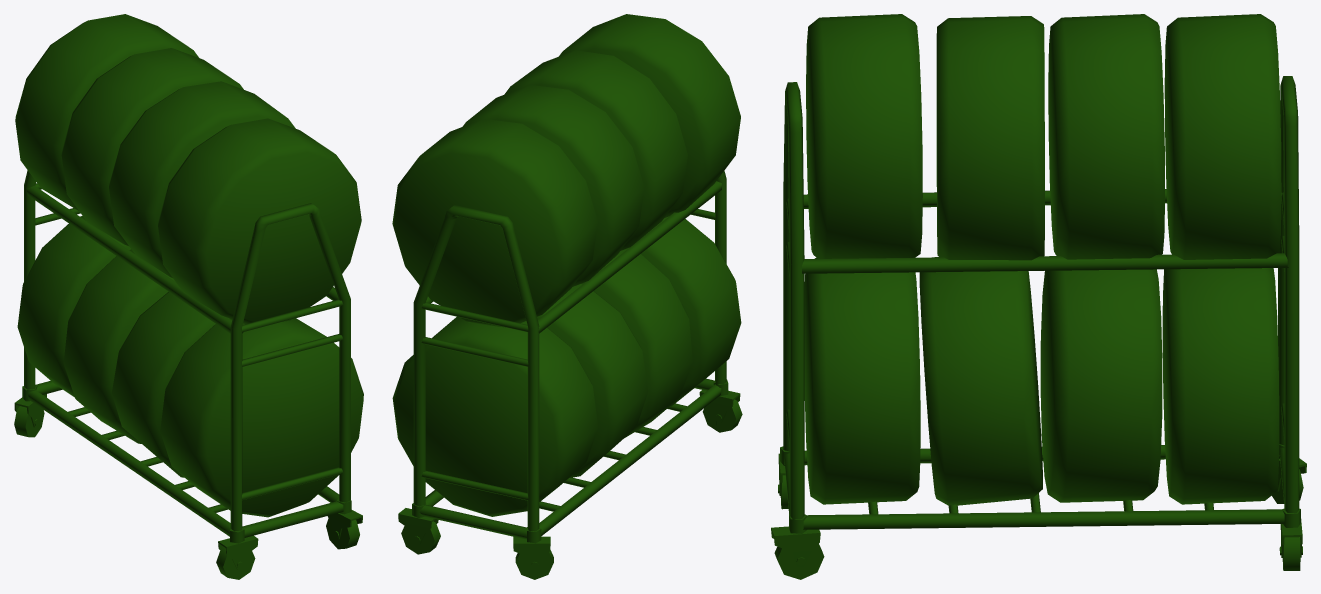
The model's file is Trolley_Tires01.fbx.
The picture shows the model from 3 angles, left to right: view 1: azimuth 30°, elevation 25°; view 2: azimuth 150°, elevation 25°; view 3: azimuth 270°, elevation 25°; orthographic projection. The views are drawn at different scales.
Parts seen in each view (by area): view 1: Trolley_Tires01A, Trolley_Tires01B, Tire_warmers_troll, Trolley_Tires01_Wheel_2, Trolley_Tires01_Wheel_4, Trolley_Tires01_Wheel_1; view 2: Trolley_Tires01A, Trolley_Tires01B, Tire_warmers_troll, Trolley_Tires01_Wheel_1, Trolley_Tires01_Wheel_3, Trolley_Tires01_Wheel_2; view 3: Trolley_Tires01A, Trolley_Tires01B, Tire_warmers_troll, Trolley_Tires01_Wheel_4, Trolley_Tires01_Wheel_3.
Boxes of the visible parts, box(x1,y1,x2,y2) form: Trolley_Tires01A: box(15, 14, 361, 324); Trolley_Tires01B: box(17, 216, 363, 517); Tire_warmers_troll: box(24, 170, 350, 537); Trolley_Tires01_Wheel_2: box(216, 528, 258, 579); Trolley_Tires01_Wheel_4: box(326, 497, 362, 549); Trolley_Tires01_Wheel_1: box(14, 385, 46, 437); Trolley_Tires01A: box(392, 14, 740, 327); Trolley_Tires01B: box(392, 216, 741, 516); Tire_warmers_troll: box(413, 171, 726, 539); Trolley_Tires01_Wheel_1: box(513, 527, 553, 579); Trolley_Tires01_Wheel_3: box(398, 502, 440, 554); Trolley_Tires01_Wheel_2: box(699, 379, 742, 432); Trolley_Tires01A: box(806, 14, 1281, 260); Trolley_Tires01B: box(804, 257, 1279, 505); Tire_warmers_troll: box(783, 76, 1299, 529); Trolley_Tires01_Wheel_4: box(771, 514, 824, 579); Trolley_Tires01_Wheel_3: box(1279, 508, 1302, 570).
Bounding box in the file's own units: 0.2156 × 0.4754 × 0.4483.
